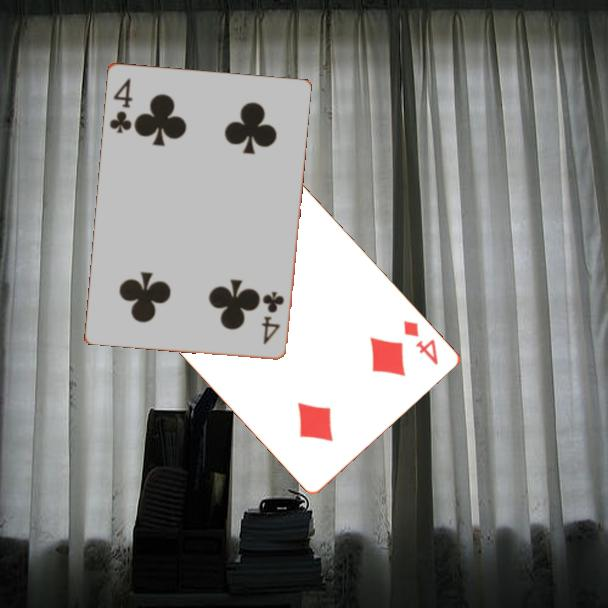c04: (106, 74, 135, 136), (258, 288, 287, 347)
d04: (400, 317, 442, 368)
